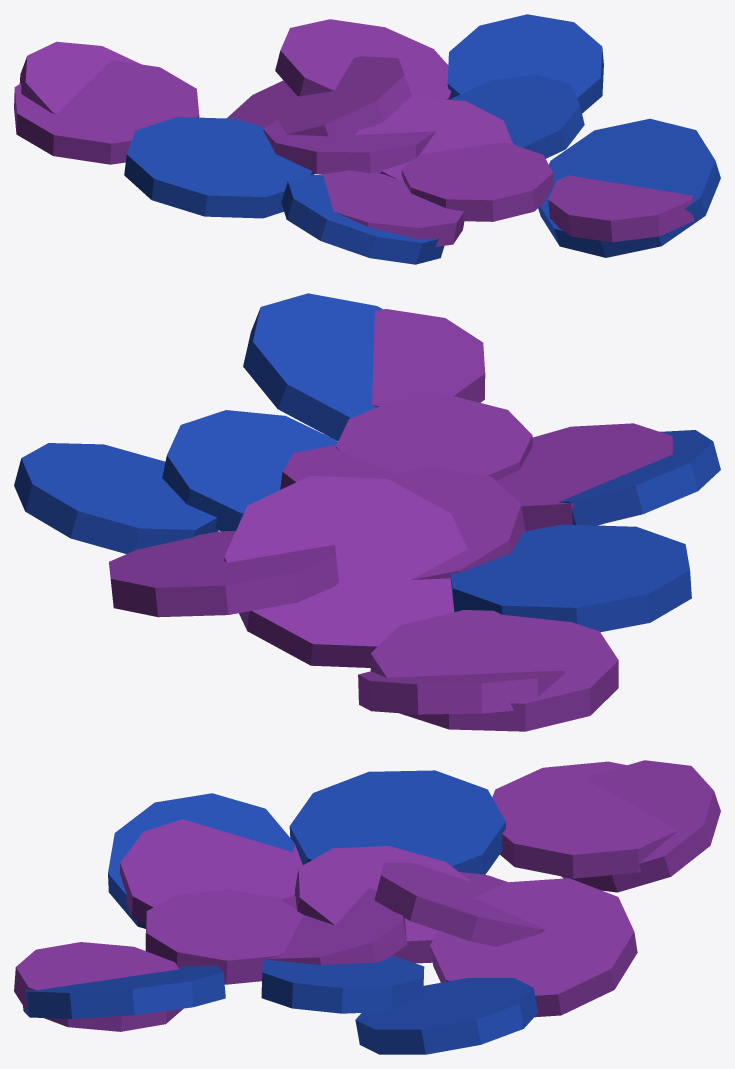
The model's file is treasury_gold_1.obj.
3 renders of one model, top to bottom at view 1: azimuth 30°, elevation 25°; view 2: azimuth 150°, elevation 25°; view 3: azimuth 270°, elevation 25°, orthographic. The views are drawn at different scales.
Parts seen in each view (by area): view 1: geometry_0, geometry_12, geometry_8, geometry_6, geometry_13, geometry_11, geometry_5, geometry_7, geometry_9, geometry_1, geometry_3, geometry_2 (+2 smaller); view 2: geometry_5, geometry_0, geometry_8, geometry_6, geometry_12, geometry_11, geometry_13, geometry_9, geometry_1, geometry_7, geometry_2, geometry_10 (+2 smaller); view 3: geometry_11, geometry_0, geometry_8, geometry_1, geometry_13, geometry_6, geometry_10, geometry_5, geometry_9, geometry_12, geometry_2, geometry_7 (+2 smaller).
Part boxes in pixels (x1=…): geometry_0: x1=124, y1=117, x2=314, y2=218; geometry_12: x1=538, y1=118, x2=720, y2=257; geometry_8: x1=14, y1=60, x2=199, y2=164; geometry_6: x1=447, y1=14, x2=603, y2=113; geometry_13: x1=401, y1=143, x2=553, y2=221; geometry_11: x1=275, y1=19, x2=451, y2=99; geometry_5: x1=226, y1=56, x2=411, y2=136; geometry_7: x1=548, y1=175, x2=693, y2=242; geometry_9: x1=450, y1=74, x2=584, y2=158; geometry_1: x1=317, y1=170, x2=464, y2=246; geometry_3: x1=281, y1=174, x2=444, y2=264; geometry_2: x1=263, y1=119, x2=435, y2=174; geometry_5: x1=224, y1=476, x2=467, y2=667; geometry_0: x1=450, y1=524, x2=691, y2=632; geometry_8: x1=370, y1=610, x2=618, y2=731; geometry_6: x1=14, y1=443, x2=218, y2=553; geometry_12: x1=243, y1=293, x2=382, y2=440; geometry_11: x1=109, y1=531, x2=338, y2=617; geometry_13: x1=336, y1=396, x2=532, y2=480; geometry_9: x1=162, y1=410, x2=337, y2=531; geometry_1: x1=496, y1=423, x2=673, y2=531; geometry_7: x1=372, y1=309, x2=485, y2=407; geometry_2: x1=372, y1=467, x2=525, y2=579; geometry_10: x1=358, y1=670, x2=564, y2=714; geometry_11: x1=430, y1=878, x2=637, y2=1017; geometry_0: x1=289, y1=770, x2=505, y2=874; geometry_8: x1=492, y1=761, x2=677, y2=878; geometry_1: x1=120, y1=819, x2=302, y2=924; geometry_13: x1=145, y1=889, x2=303, y2=984; geometry_6: x1=355, y1=978, x2=537, y2=1054; geometry_10: x1=561, y1=760, x2=720, y2=892; geometry_5: x1=374, y1=862, x2=544, y2=946; geometry_9: x1=261, y1=956, x2=424, y2=1013; geometry_12: x1=23, y1=965, x2=225, y2=1018; geometry_2: x1=295, y1=846, x2=470, y2=963; geometry_7: x1=14, y1=942, x2=183, y2=1031.
Size of the model in its own units: 0.2985 by 0.0447 by 0.3224.
